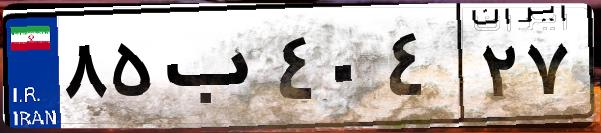0: (330, 28, 385, 110)
2: (475, 38, 525, 113)
4: (270, 28, 330, 110), (385, 28, 445, 110)
5: (110, 28, 158, 98)
7: (525, 38, 570, 115)
8: (57, 26, 110, 100)
ب: (158, 20, 270, 120)
